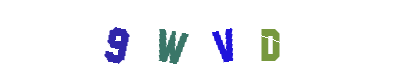9: (122, 0, 202, 80)
D: (172, 0, 252, 80)
V: (166, 0, 246, 80)
W: (159, 0, 239, 80)
